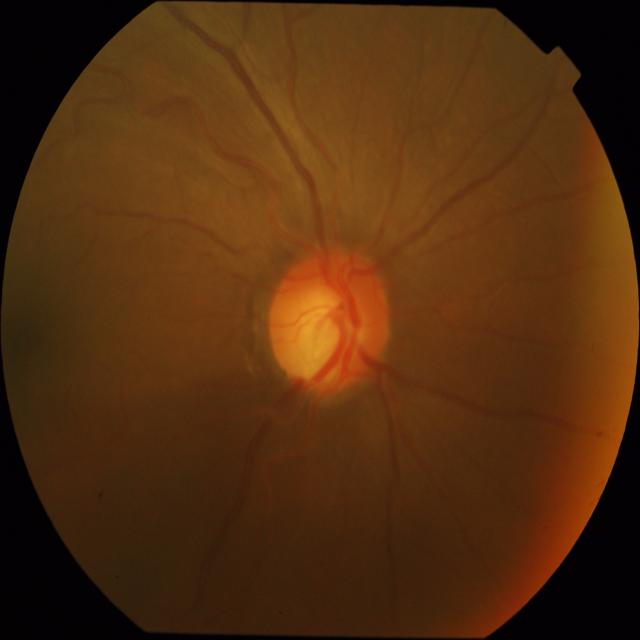OC: (290, 287, 365, 383)
OD: (268, 248, 391, 397)
